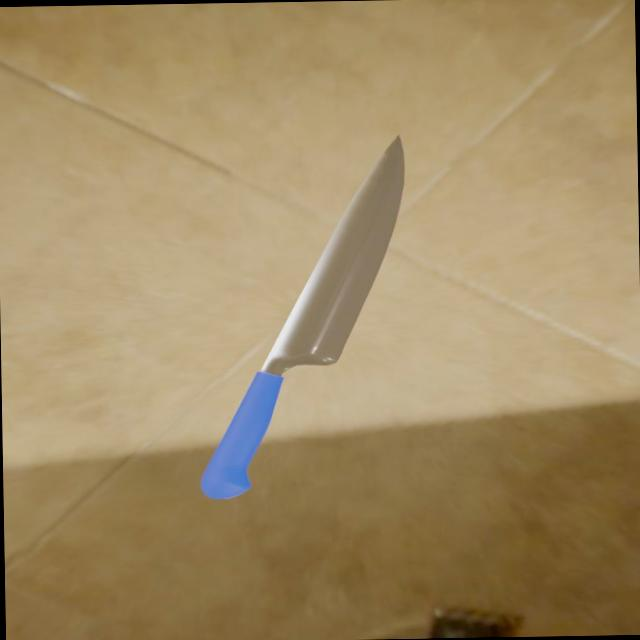knife: (198, 370, 286, 499)
